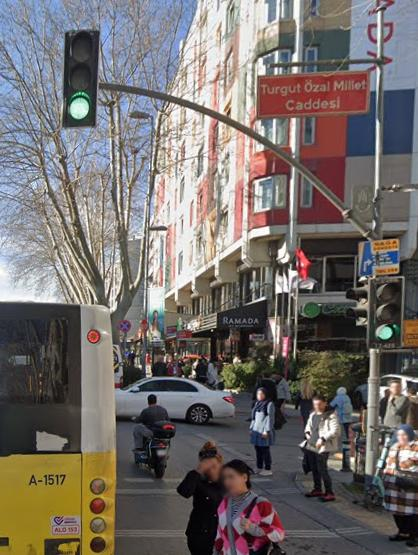greenlight: (65, 29, 93, 123), (370, 277, 402, 343)
